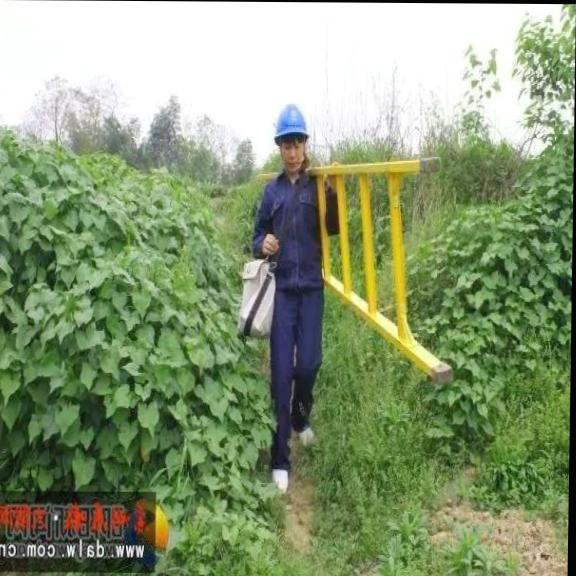no_safety_vest: (250, 171, 335, 292)
